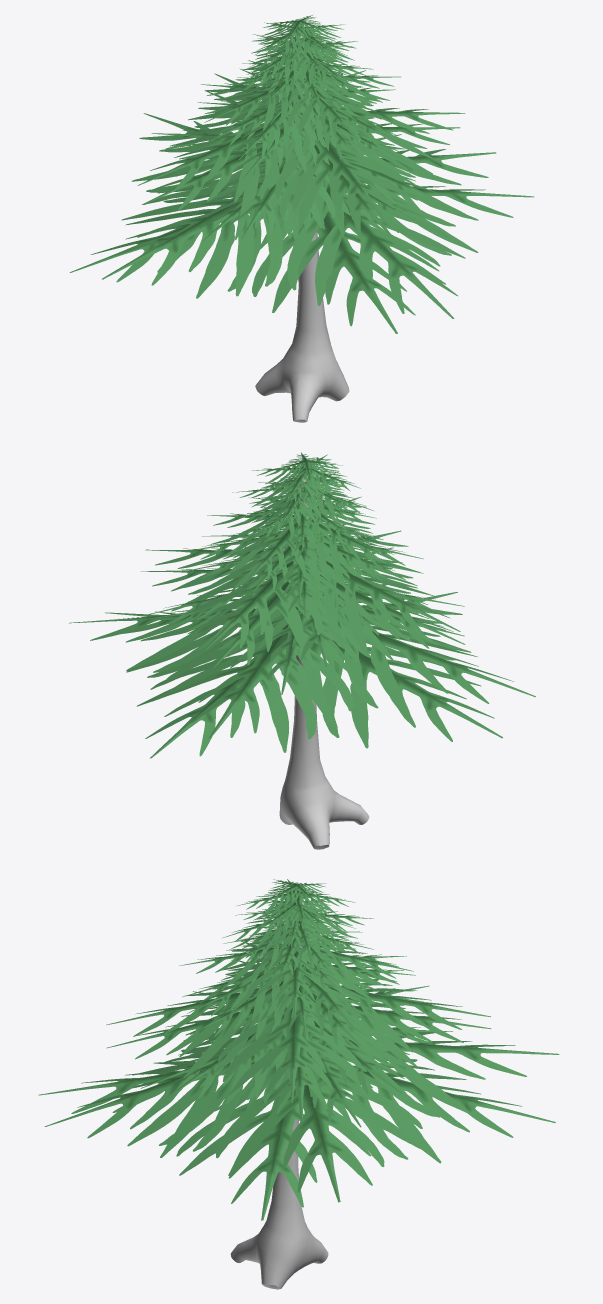
File: Trees_Evergreen.fbx
The picture shows the model from 3 angles, top to bottom: view 1: azimuth 30°, elevation 25°; view 2: azimuth 150°, elevation 25°; view 3: azimuth 270°, elevation 25°; orthographic projection. The views are drawn at different scales.
Visible parts, largest first — view 1: Plane.011, Tree; view 2: Plane.011, Tree; view 3: Plane.011, Tree.
Part boxes in pixels (box(x1,y1,x2,y2)): Plane.011: box(69, 14, 533, 333); Tree: box(255, 36, 349, 422); Plane.011: box(69, 452, 535, 758); Tree: box(279, 476, 369, 849); Plane.011: box(38, 879, 559, 1220); Tree: box(230, 899, 328, 1289).
Bounding box in the file's own units: 10.82 × 8.22 × 10.93.
